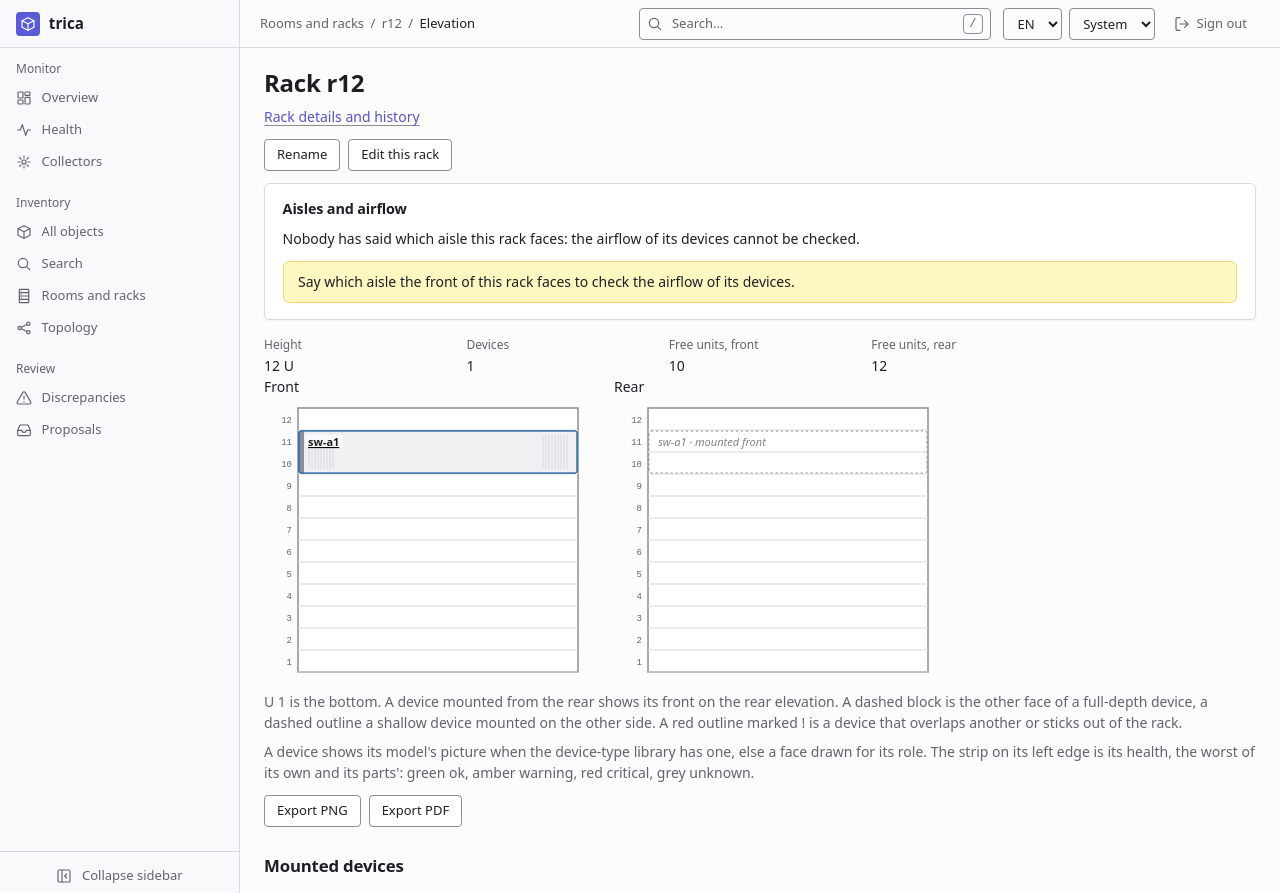
Test: rack export › saves it as a PDF, from a JPEG of the same sheet
The width and height of the screenshot is (1280, 893).
Click the button "Export PDF". click: (415, 811)
box: [369, 795, 462, 827]
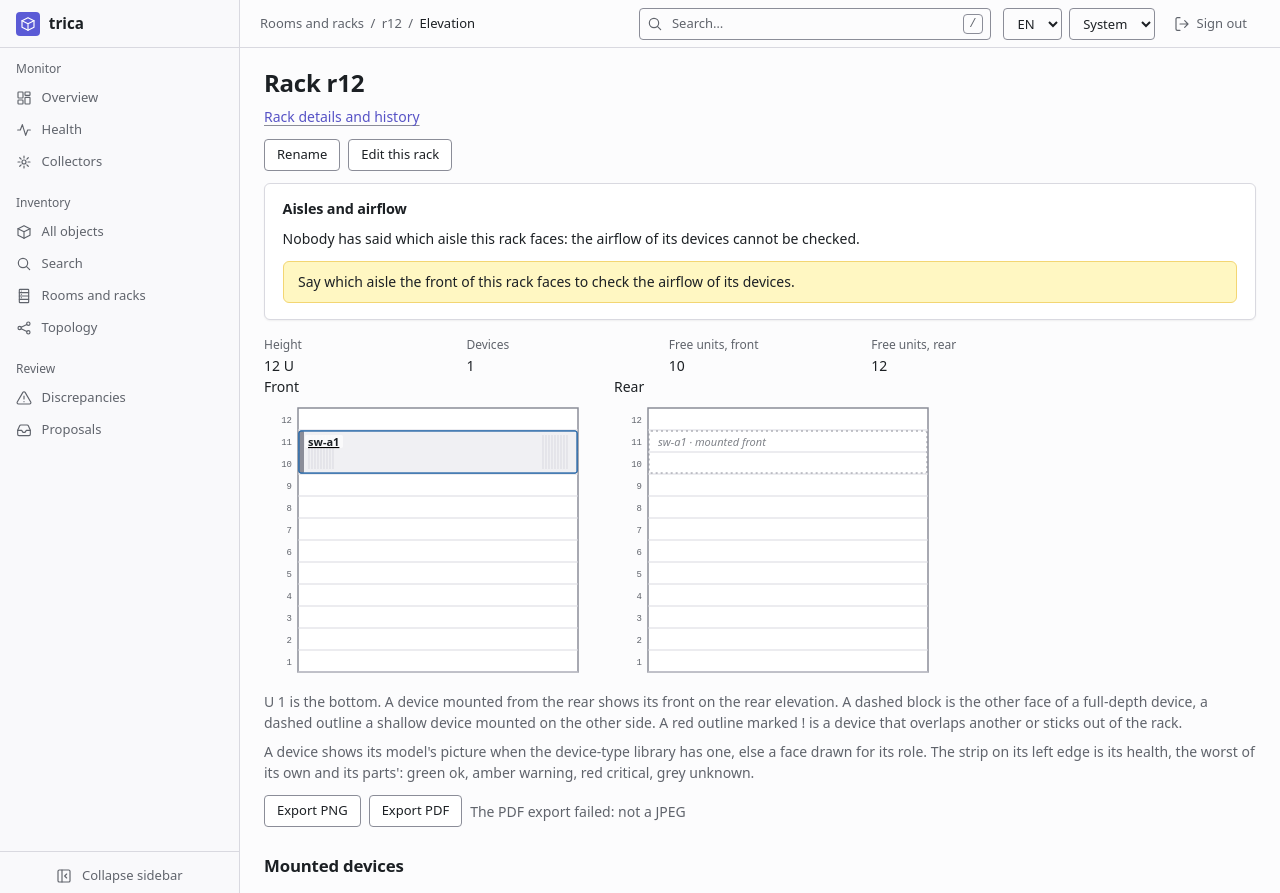
Expected: the text "The PDF export failed: not a JPEG" is shown, [470, 801, 686, 822]
